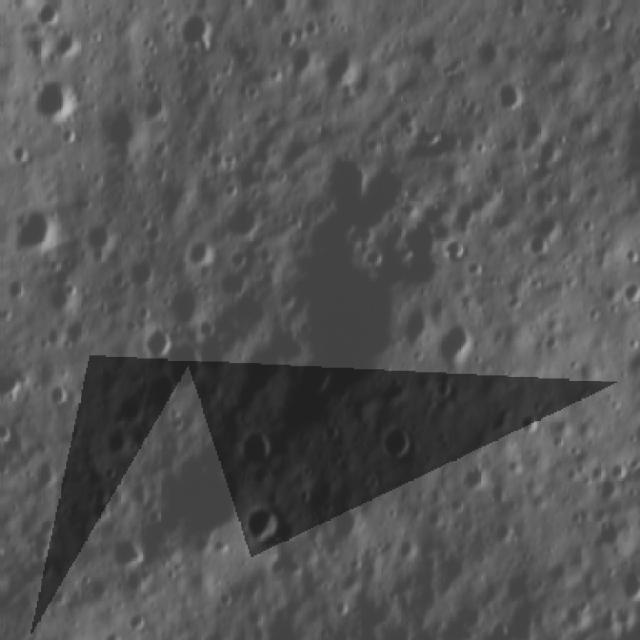crater: (283, 240, 423, 388), (386, 214, 440, 284), (317, 146, 369, 208), (92, 100, 142, 160), (362, 159, 412, 213), (25, 76, 81, 124), (315, 40, 362, 91), (160, 280, 209, 328), (522, 205, 562, 263), (11, 200, 55, 252), (163, 335, 202, 387), (322, 500, 362, 548), (169, 8, 216, 47), (371, 421, 415, 462), (79, 208, 121, 250), (104, 528, 144, 572), (592, 510, 633, 552), (433, 320, 473, 362), (222, 196, 264, 235), (236, 422, 275, 464), (450, 458, 487, 502), (245, 500, 280, 542), (120, 247, 157, 285), (532, 130, 565, 172), (41, 27, 84, 59), (109, 390, 149, 424), (283, 36, 315, 78), (181, 230, 217, 267), (135, 324, 176, 356), (496, 73, 526, 116), (40, 276, 72, 316), (142, 370, 180, 402), (21, 2, 61, 30), (99, 421, 132, 453), (615, 562, 640, 604), (59, 314, 90, 346), (512, 406, 542, 434), (142, 88, 168, 120), (602, 458, 630, 484), (123, 606, 148, 632)
